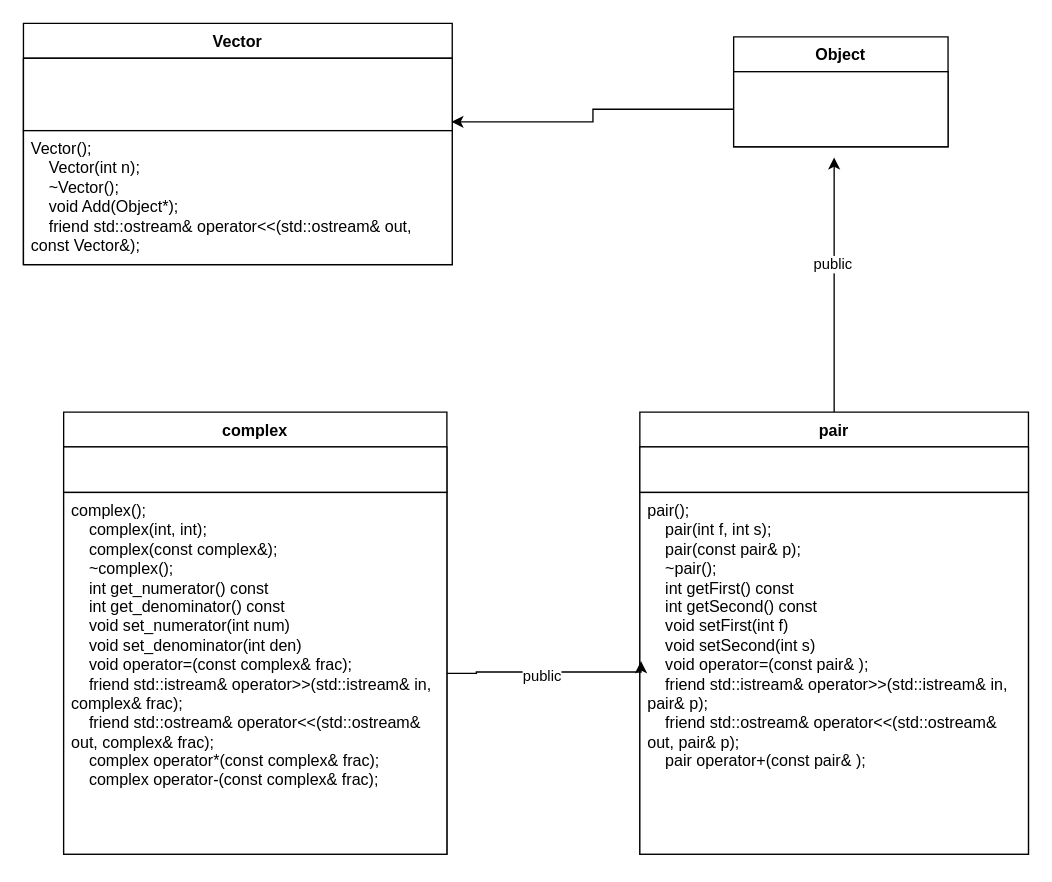
Some shapes in this 1052 by 882 pixel diagram are drawn without their labels. Here are the shapes that lost their labels. From the top down, the centre of each, then its label:
At (237,94): "int size; int curr; Object** beg;".
At (840,108): "Object(void); ~Object(); virtual void Show();".
At (833,469): "int first; int second;".
